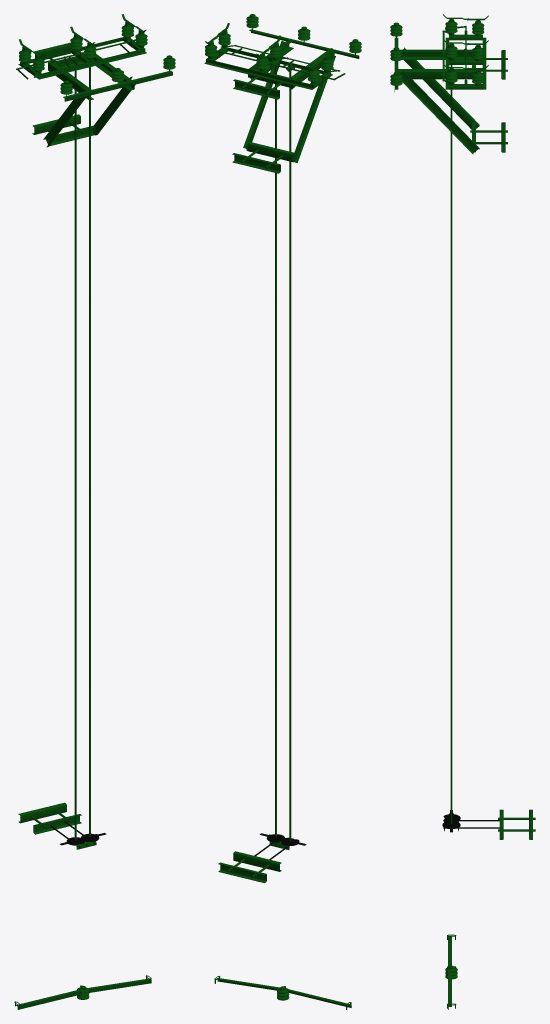
Rendered from Electric_props.FBX.
3 views of the same model, side by side, from view 1: azimuth 30°, elevation 25°; view 2: azimuth 150°, elevation 25°; view 3: azimuth 270°, elevation 25° (orthographic).
Visible parts, largest first — view 1: RLK_frame, PRNZ_ground, RLND, PRNZ_off, PRNZ, Traverse, Plank; view 2: RLK_frame, PRNZ_ground, RLND, PRNZ_off, PRNZ, Traverse, Plank; view 3: RLK_frame, PRNZ_off, RLND, PRNZ.
Boxes of the visible parts, box(x1,y1,x2,y2) form: RLK_frame: box(32, 42, 135, 147); PRNZ_ground: box(60, 56, 84, 845); RLND: box(16, 14, 146, 79); PRNZ_off: box(81, 67, 106, 841); PRNZ: box(18, 802, 96, 849); Traverse: box(14, 975, 151, 1009); Plank: box(63, 69, 172, 101); RLK_frame: box(232, 40, 335, 173); PRNZ_ground: box(281, 64, 306, 845); RLND: box(204, 23, 345, 89); PRNZ_off: box(259, 66, 284, 842); PRNZ: box(218, 838, 289, 883); Traverse: box(214, 976, 351, 1009); Plank: box(249, 28, 359, 58); RLK_frame: box(398, 47, 507, 154); PRNZ_off: box(442, 65, 460, 832); RLND: box(442, 14, 488, 89); PRNZ: box(443, 809, 535, 839).
Bounding box in the file's own units: 120 × 822 × 115.
